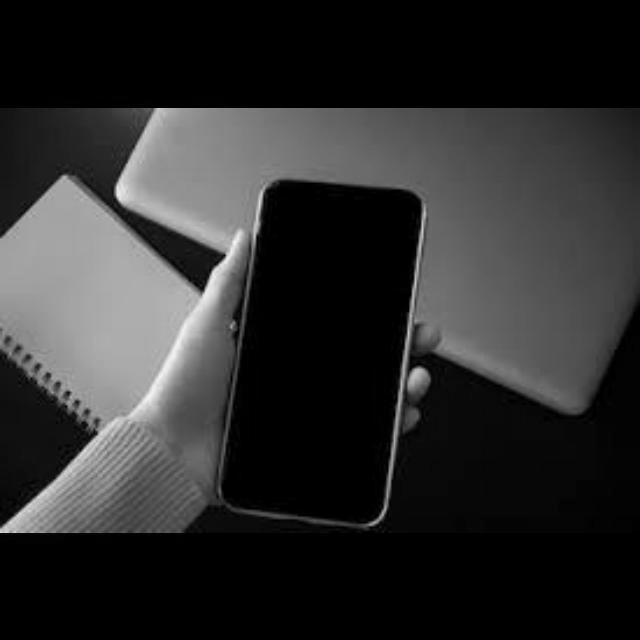fake: (233, 173, 413, 521)
